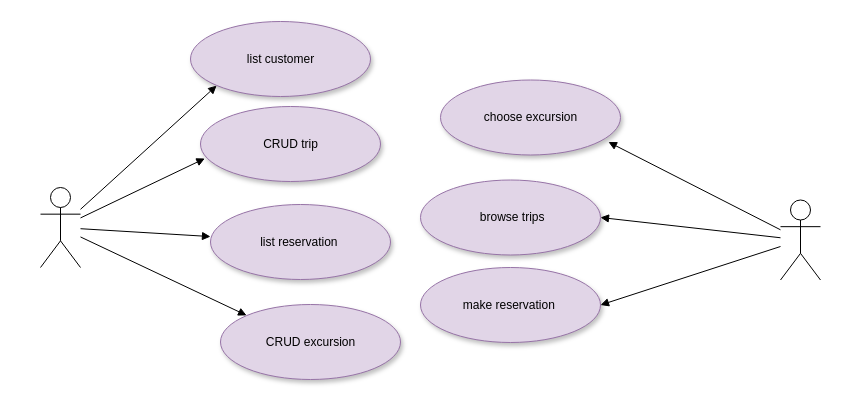
Some shapes in this 861 by 404 pixel diagram are drawn without their labels. Here are the shapes that lost their labels. From the top down, the centre of each, then its label:
At (60,227): "admin User with isAdmin sign set to true".
At (800,239): "customer User with isAdmin sign set to false".
